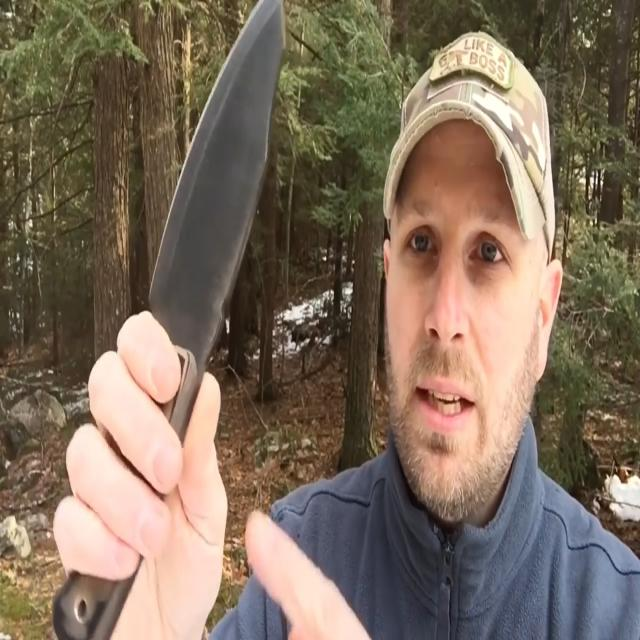knife: (142, 1, 294, 370)
